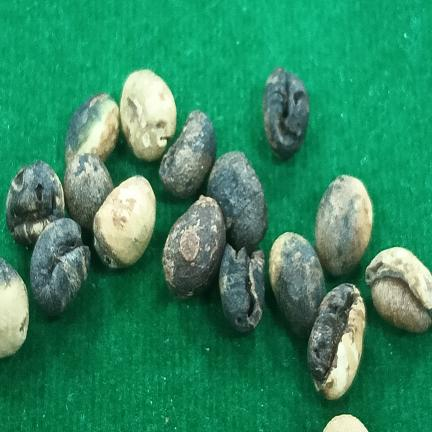partial-black: (307, 284, 365, 399), (162, 195, 226, 299), (207, 151, 268, 254), (269, 232, 326, 337), (93, 175, 156, 268), (315, 175, 373, 275), (365, 247, 432, 333), (120, 69, 176, 161), (159, 110, 217, 198), (307, 284, 358, 383), (6, 161, 65, 246), (263, 67, 310, 159), (366, 247, 432, 309), (219, 243, 264, 332), (65, 93, 120, 165), (63, 153, 113, 231), (0, 258, 29, 358), (323, 414, 368, 432), (35, 183, 43, 201)
